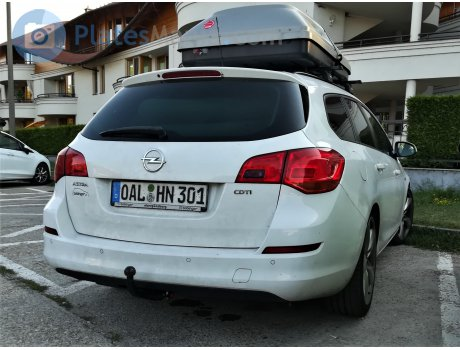License Plates: (116, 180, 205, 203)
